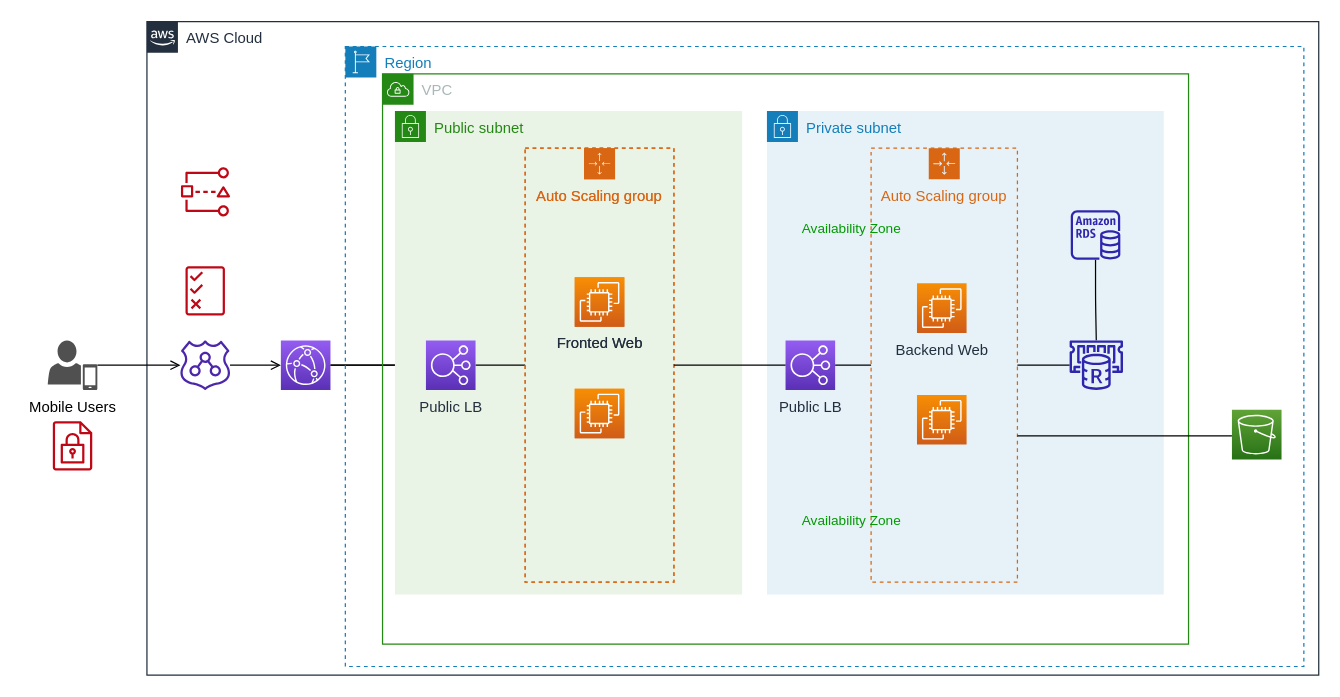
Some shapes in this 1340 by 697 pixel diagram are drawn without their labels. The shapes that lost their labels are listed below. From the top down, each one's centre as x and y in pixels, then its label:
(x=205, y=191): IAM Access Analyzer
(x=1095, y=234): RDS Active/replica
(x=204, y=290): Permission
(x=204, y=364): Route53
(x=305, y=364): Cloud Front CDN
(x=72, y=445): Encrypted Data
(x=1256, y=434): S3 Services
